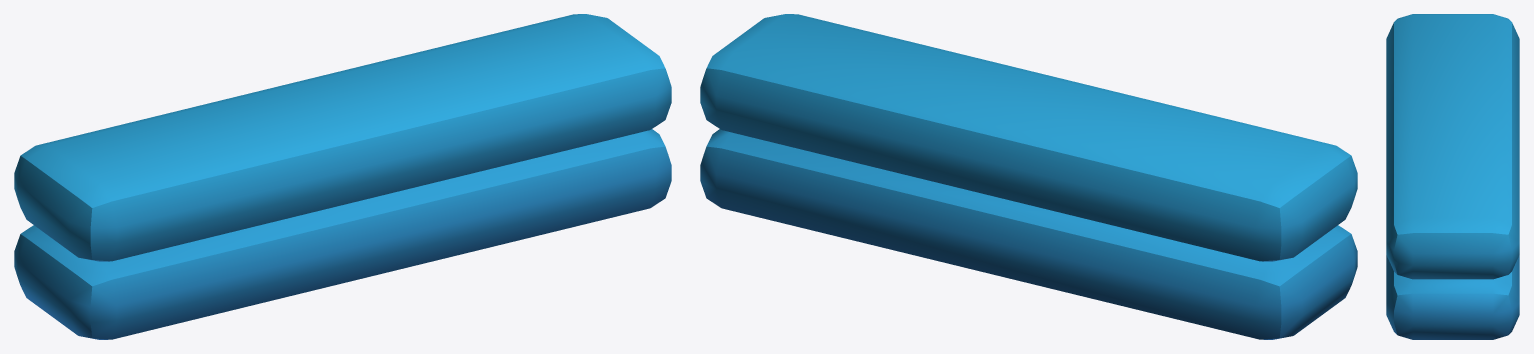
File: barrier_4x1x1_blue.glb
The picture shows the model from 3 angles, left to right: view 1: azimuth 30°, elevation 25°; view 2: azimuth 150°, elevation 25°; view 3: azimuth 270°, elevation 25°; orthographic projection. The views are drawn at different scales.
Visible parts, largest first — view 1: barrier_4x1x1_blue; view 2: barrier_4x1x1_blue; view 3: barrier_4x1x1_blue.
Part boxes in pixels (bbox=[...]): barrier_4x1x1_blue: bbox=[14, 14, 671, 339]; barrier_4x1x1_blue: bbox=[700, 14, 1357, 339]; barrier_4x1x1_blue: bbox=[1386, 14, 1519, 339].
Bounding box in the file's own units: 4 × 1 × 1.
1 material, 1 textured.
